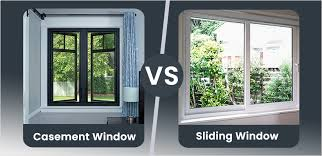Window: (186, 12, 296, 106), (47, 28, 121, 106)
